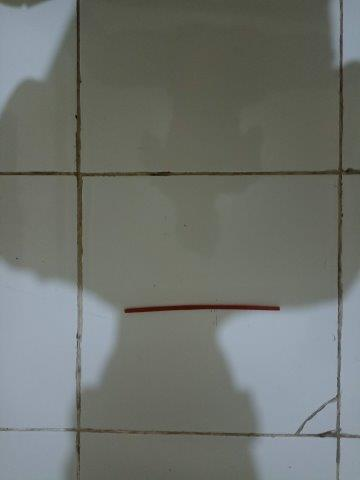sedotan: (125, 304, 280, 312)
